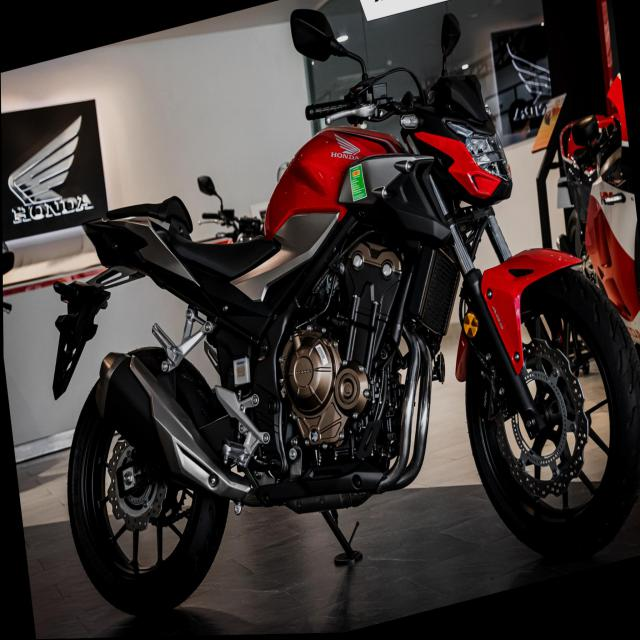CB500F: (16, 0, 640, 640)
